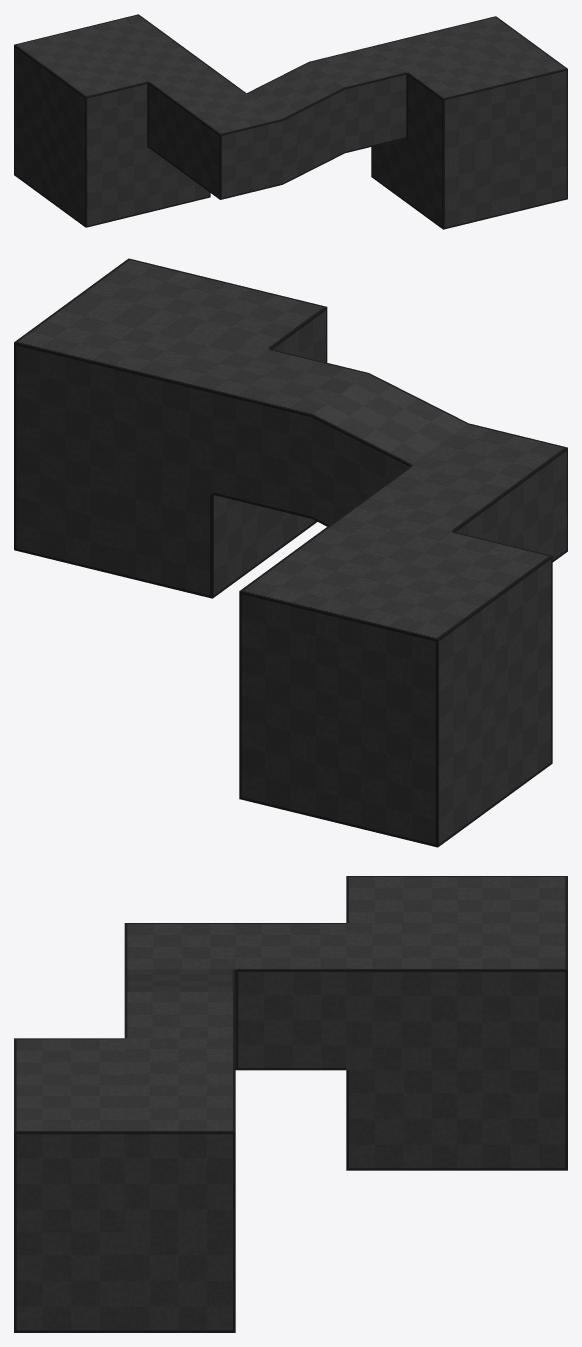
File: map.obj
3 renders of one model, top to bottom at view 1: azimuth 30°, elevation 25°; view 2: azimuth 150°, elevation 25°; view 3: azimuth 270°, elevation 25°, orthographic. The views are drawn at different scales.
Parts seen in each view (by area): view 1: Cube.001; view 2: Cube.001; view 3: Cube.001.
Boxes of the visible parts, x1,y1,x2,y2 form: Cube.001: [14, 14, 567, 229]; Cube.001: [14, 258, 567, 847]; Cube.001: [14, 876, 567, 1332].
Size of the model in its own units: 768 by 288 by 640.
Materials: 1 (1 with a texture image).
